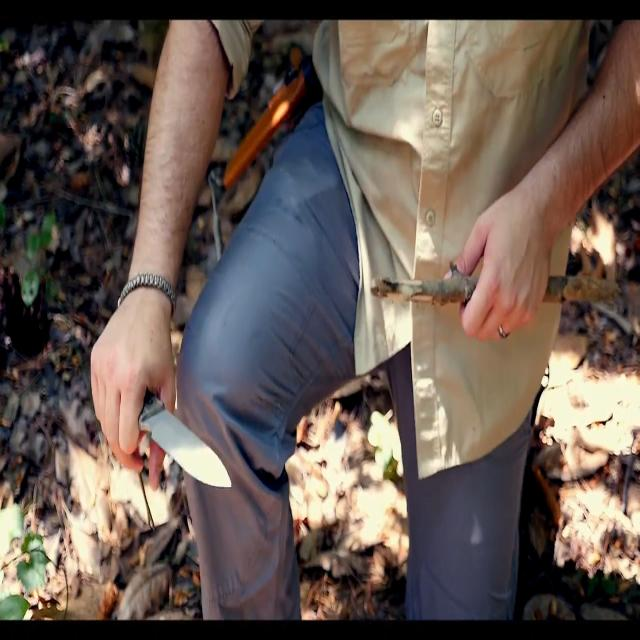knife: (142, 394, 236, 498)
